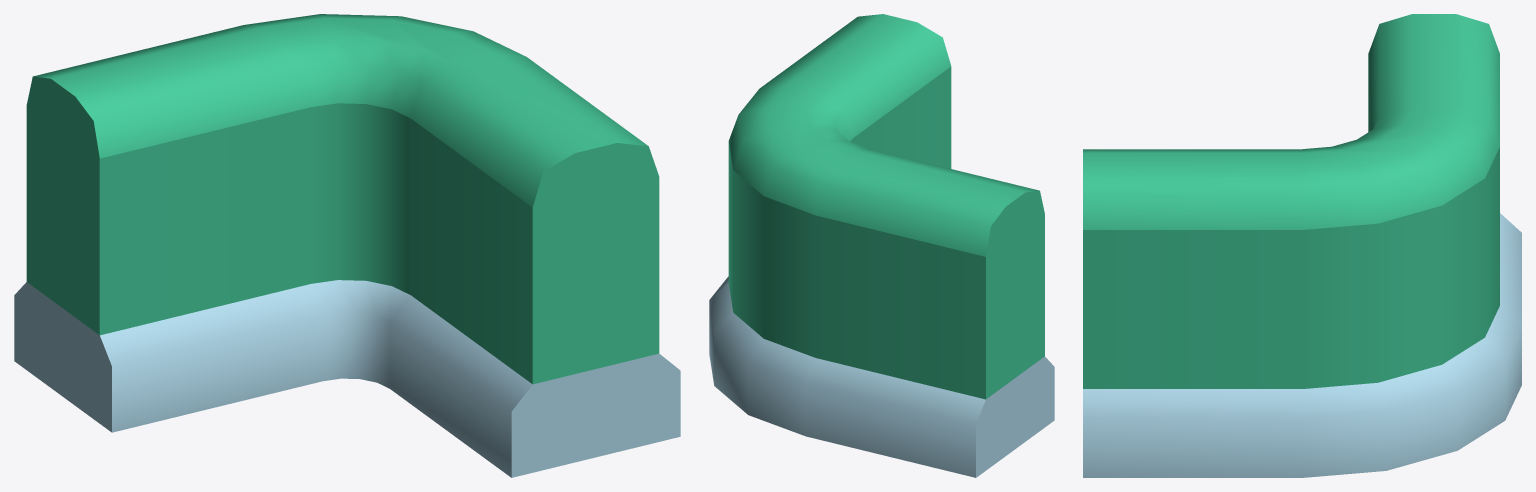
Rendered from hedgeLargeCurved.obj.
3 views of the same model, side by side, from view 1: azimuth 30°, elevation 25°; view 2: azimuth 150°, elevation 25°; view 3: azimuth 270°, elevation 25° (orthographic). The views are drawn at different scales.
Parts seen in each view (by area): view 1: hedgeLargeCurved; view 2: hedgeLargeCurved; view 3: hedgeLargeCurved.
Part boxes in pixels (box(x1,y1,x2,y2)): hedgeLargeCurved: box(14, 14, 680, 477); hedgeLargeCurved: box(709, 14, 1054, 477); hedgeLargeCurved: box(1083, 14, 1521, 477).
Bounding box in the file's own units: 1 × 0.7 × 1.
